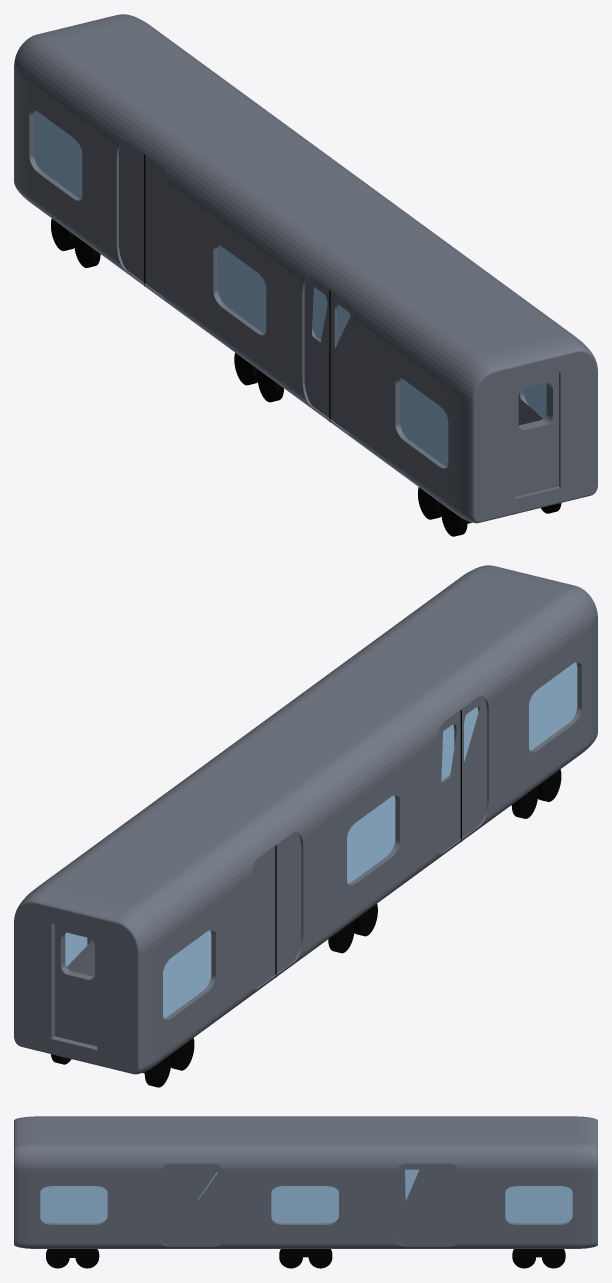
Rendered from SUBWAY.fbx.
3 views of the same model, one above another, from view 1: azimuth 30°, elevation 25°; view 2: azimuth 150°, elevation 25°; view 3: azimuth 270°, elevation 25° (orthographic). The views are drawn at different scales.
Visible parts, largest first — view 1: train; view 2: train; view 3: train.
Part boxes in pixels (x1,y1,x2,y2): train: [14, 14, 597, 536]; train: [14, 565, 597, 1087]; train: [14, 1116, 597, 1268].
Bounding box in the file's own units: 558 × 767 × 3324.
